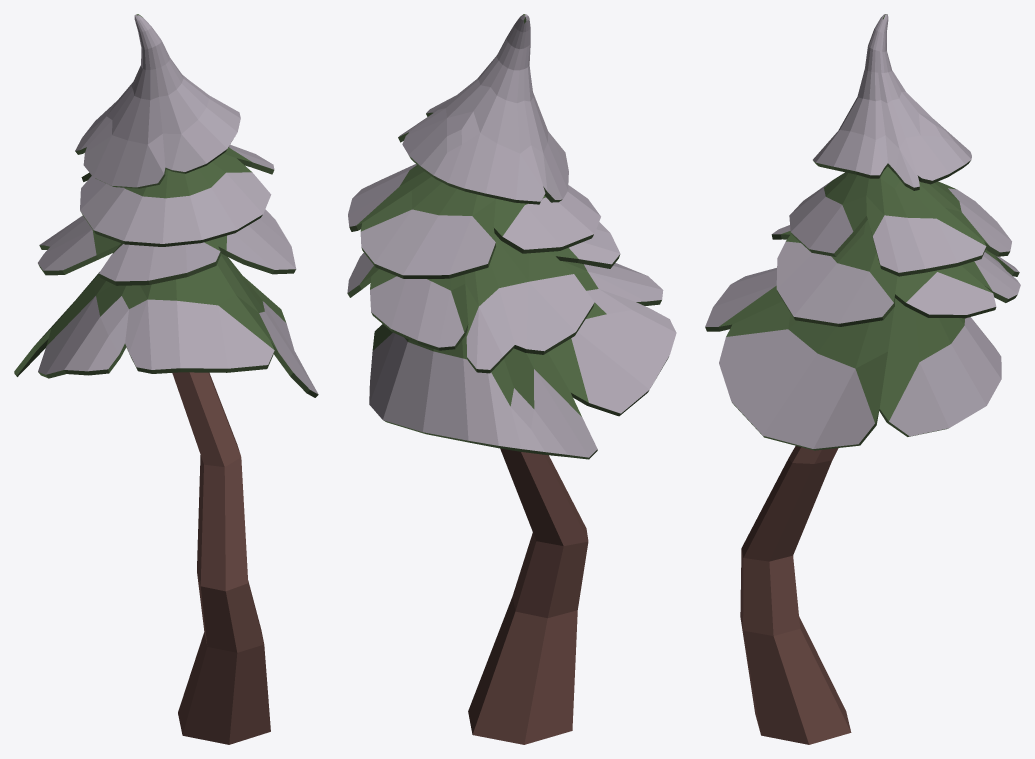
The model's file is PineTree_Snow_4.gltf.
3 views of the same model, side by side, from view 1: azimuth 30°, elevation 25°; view 2: azimuth 150°, elevation 25°; view 3: azimuth 270°, elevation 25° (orthographic). The views are drawn at different scales.
Parts seen in each view (by area): view 1: PineTree_Snow_4; view 2: PineTree_Snow_4; view 3: PineTree_Snow_4.
Boxes of the visible parts, x1=… form: PineTree_Snow_4: x1=14, y1=14, x2=318, y2=744; PineTree_Snow_4: x1=347, y1=14, x2=676, y2=744; PineTree_Snow_4: x1=705, y1=14, x2=1020, y2=744.
Bounding box in the file's own units: 1.25 × 3.34 × 1.39.
